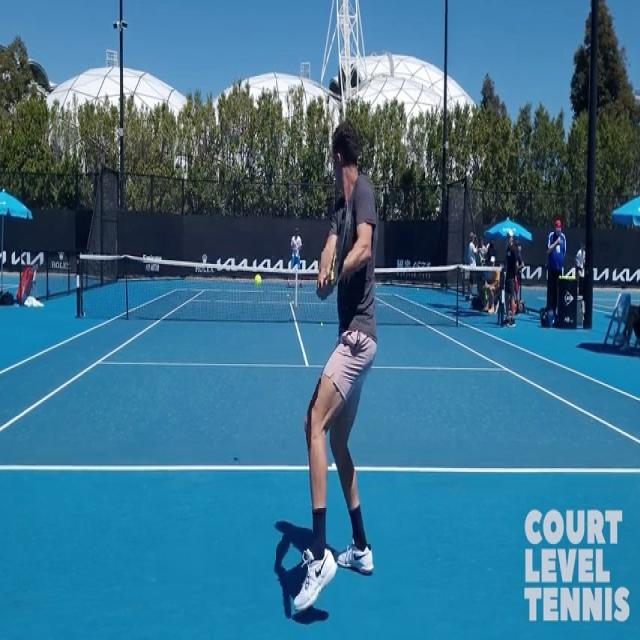backhand-stroke: (269, 109, 400, 626)
